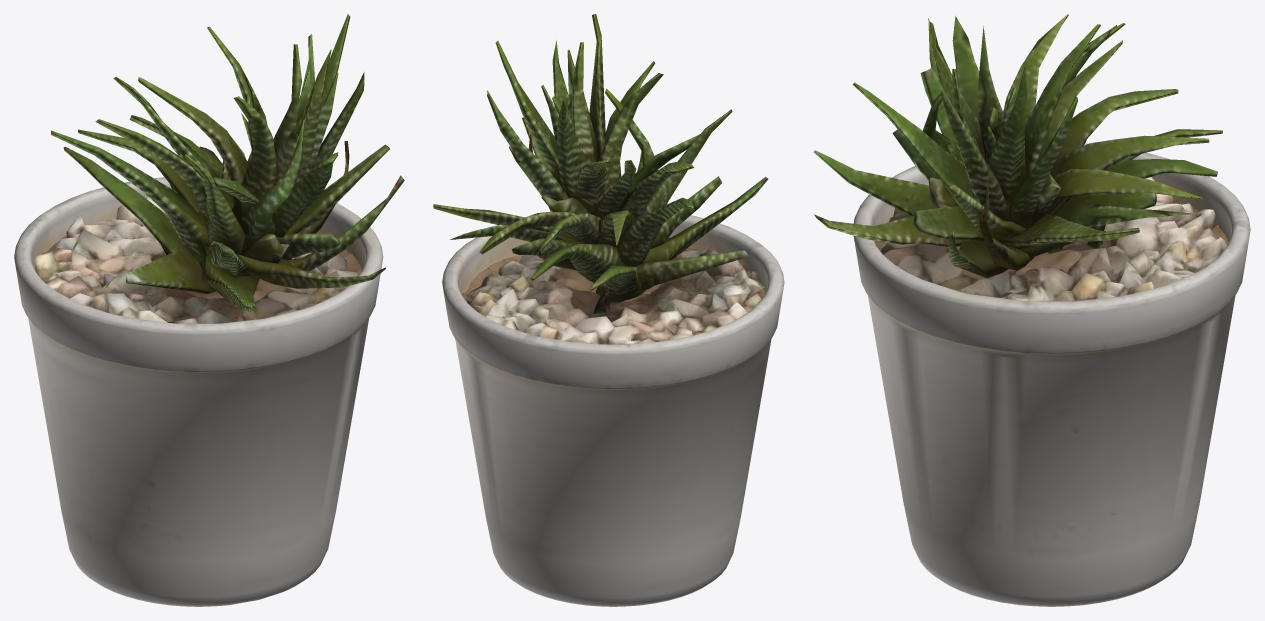
The model's file is potted-succulent-low.glb.
3 renders of one model, left to right at view 1: azimuth 30°, elevation 25°; view 2: azimuth 150°, elevation 25°; view 3: azimuth 270°, elevation 25°, orthographic. The views are drawn at different scales.
Visible parts, largest first — view 1: potted_plant_04_pot, potted_plant_04_plant, potted_plant_04_ground, potted_plant_04_dirt; view 2: potted_plant_04_pot, potted_plant_04_plant, potted_plant_04_ground, potted_plant_04_dirt; view 3: potted_plant_04_pot, potted_plant_04_plant, potted_plant_04_ground, potted_plant_04_dirt.
Part boxes in pixels (box(x1,y1,x2,y2)): potted_plant_04_pot: box(14, 177, 383, 606); potted_plant_04_plant: box(51, 14, 404, 311); potted_plant_04_ground: box(34, 196, 357, 323); potted_plant_04_dirt: box(34, 236, 362, 306); potted_plant_04_pot: box(442, 215, 784, 606); potted_plant_04_plant: box(433, 14, 768, 313); potted_plant_04_ground: box(462, 247, 765, 344); potted_plant_04_dirt: box(461, 247, 765, 307); potted_plant_04_pot: box(853, 143, 1250, 606); potted_plant_04_plant: box(813, 14, 1222, 278); potted_plant_04_ground: box(880, 177, 1227, 301); potted_plant_04_dirt: box(874, 199, 1228, 296).
Size of the model in its own units: 0.1679 by 0.2672 by 0.1845.
1 material, 1 textured.
